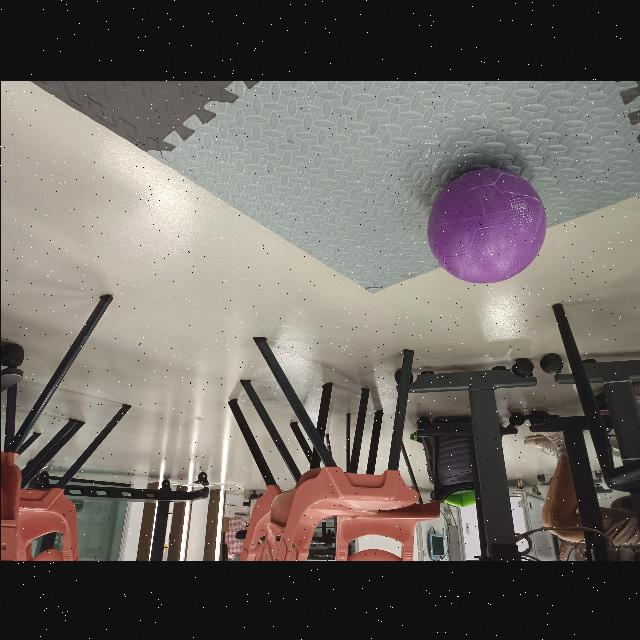P: (426, 165, 544, 282)
